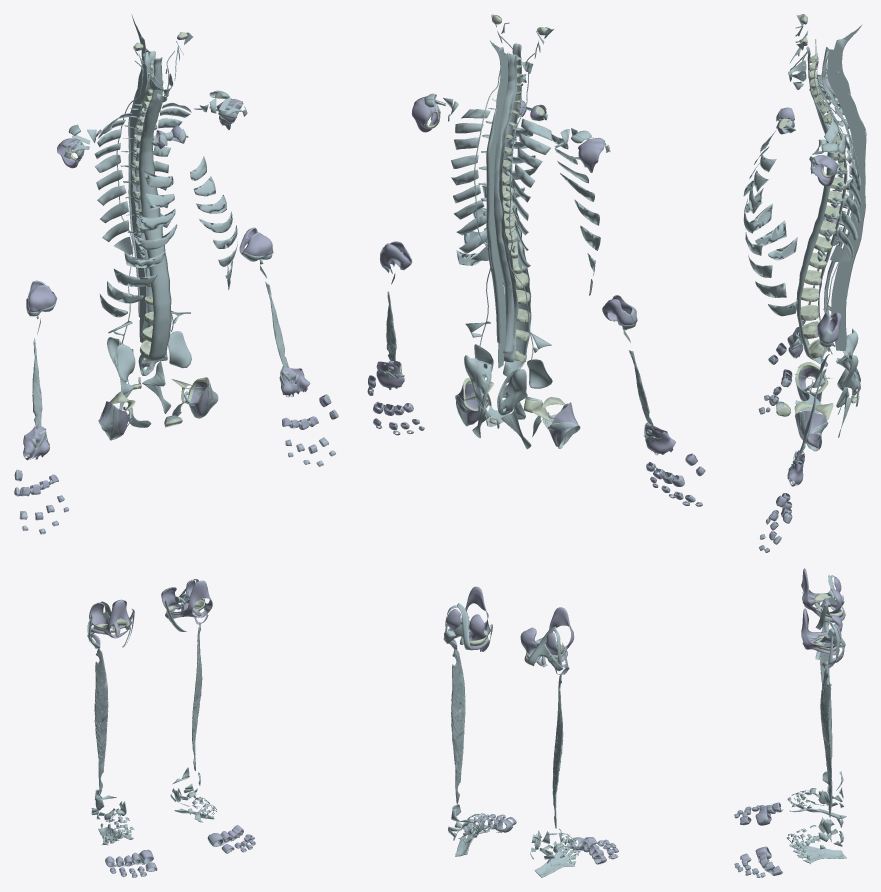
File: joints.glb
The picture shows the model from 3 angles, left to right: view 1: azimuth 30°, elevation 25°; view 2: azimuth 150°, elevation 25°; view 3: azimuth 270°, elevation 25°; orthographic projection. The views are drawn at different scales.
Visible parts, largest first — view 1: anterior_longitudinal_ligament, external_intercostal_membrane__r, internal_intercostal_membrane__r, external_intercostal_membrane__l, interosseous_membrane_of_leg__r, interspinous_ligaments, articular_capsule_of_knee_joint__l, internal_intercostal_membrane__l, articular_capsule_of_knee_joint__r, articular_capsule_of_elbow_joint__l, interosseous_membrane_of_leg__l, articular_capsule_of_elbow_joint__r (+2 smaller); view 2: internal_intercostal_membrane__l, ligamenta_flava, interspinous_ligaments, internal_intercostal_membrane__r, interosseous_membrane_of_leg__l, anterior_longitudinal_ligament, external_intercostal_membrane__r, posterior_longitudinal_ligament, articular_capsule_of_knee_joint__l, articular_capsule_of_knee_joint__r, supraspinous_ligament, posterior_sacro_iliac_ligament__r (+4 smaller); view 3: interspinous_ligaments, external_intercostal_membrane__l, internal_intercostal_membrane__l, anterior_longitudinal_ligament, external_intercostal_membrane__r, interosseous_membrane_of_leg__l, articular_capsule_of_knee_joint__l, articular_capsule_of_knee_joint__r, ligamenta_flava, posterior_longitudinal_ligament, long_plantar_ligament__l, articular_capsule_of_elbow_joint__l (+15 smaller).
Boxes of the visible parts, x1,y1,x2,y2 form: anterior_longitudinal_ligament: [138, 57, 171, 363]; external_intercostal_membrane__r: [99, 170, 177, 317]; internal_intercostal_membrane__r: [94, 113, 132, 254]; external_intercostal_membrane__l: [190, 156, 237, 289]; interosseous_membrane_of_leg__r: [94, 648, 108, 794]; interspinous_ligaments: [130, 50, 149, 342]; articular_capsule_of_knee_joint__l: [161, 579, 212, 618]; internal_intercostal_membrane__l: [153, 102, 191, 235]; articular_capsule_of_knee_joint__r: [90, 599, 131, 638]; articular_capsule_of_elbow_joint__l: [239, 227, 272, 261]; interosseous_membrane_of_leg__l: [192, 622, 202, 770]; articular_capsule_of_elbow_joint__r: [27, 280, 56, 311]; internal_intercostal_membrane__l: [451, 109, 490, 260]; ligamenta_flava: [494, 53, 515, 353]; interspinous_ligaments: [488, 52, 508, 368]; internal_intercostal_membrane__r: [512, 119, 552, 271]; interosseous_membrane_of_leg__l: [451, 649, 465, 804]; anterior_longitudinal_ligament: [502, 43, 531, 376]; external_intercostal_membrane__r: [551, 134, 600, 295]; posterior_longitudinal_ligament: [499, 53, 518, 362]; articular_capsule_of_knee_joint__l: [446, 586, 490, 649]; articular_capsule_of_knee_joint__r: [520, 607, 574, 662]; supraspinous_ligament: [486, 108, 500, 343]; posterior_sacro_iliac_ligament__r: [497, 368, 527, 415]; interspinous_ligaments: [826, 49, 865, 350]; external_intercostal_membrane__l: [743, 154, 797, 316]; internal_intercostal_membrane__l: [824, 116, 861, 262]; anterior_longitudinal_ligament: [796, 46, 833, 366]; external_intercostal_membrane__r: [743, 131, 797, 260]; interosseous_membrane_of_leg__l: [820, 668, 832, 817]; articular_capsule_of_knee_joint__l: [801, 608, 842, 655]; articular_capsule_of_knee_joint__r: [801, 568, 844, 622]; ligamenta_flava: [822, 47, 854, 320]; posterior_longitudinal_ligament: [816, 53, 847, 351]; long_plantar_ligament__l: [789, 843, 846, 864]; articular_capsule_of_elbow_joint__l: [817, 312, 841, 343].
Size of the model in its own units: 0.6615 by 1.58 by 0.2308.
